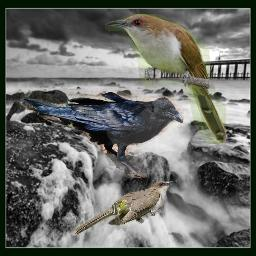Crow: (20, 91, 184, 178)
Cuckoo: (105, 14, 226, 144), (73, 180, 174, 234)
